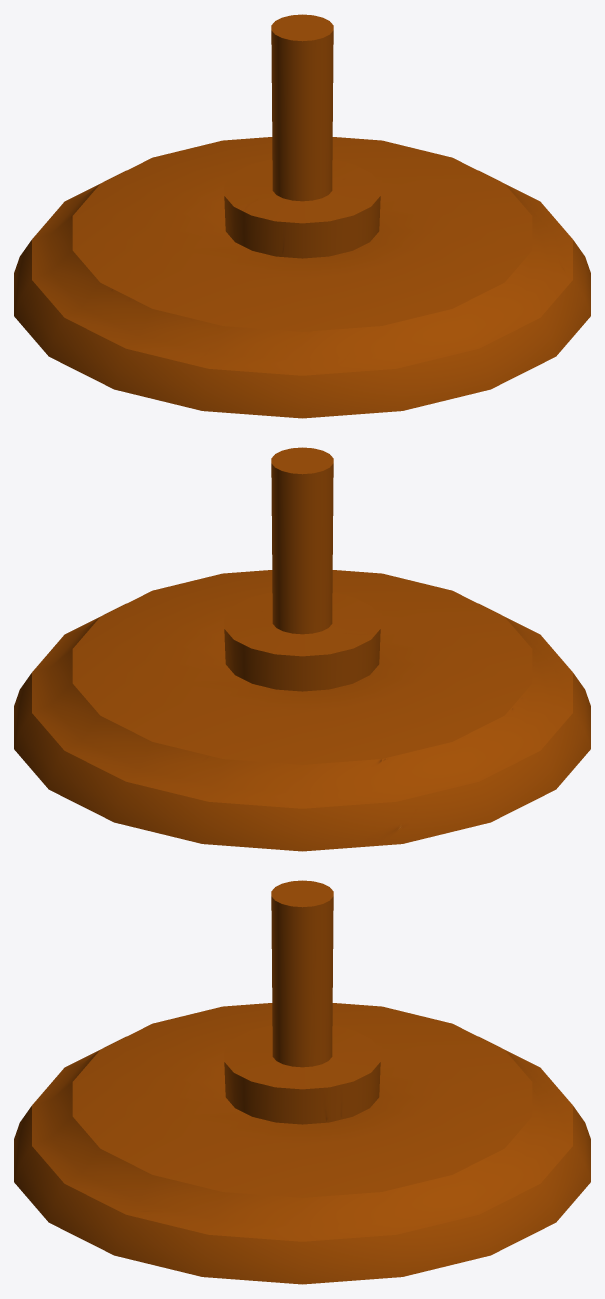
Rendered from otraLamp.fbx.
3 renders of one model, top to bottom at view 1: azimuth 30°, elevation 25°; view 2: azimuth 150°, elevation 25°; view 3: azimuth 270°, elevation 25°, orthographic.
Parts seen in each view (by area): view 1: Cylinder001; view 2: Cylinder001; view 3: Cylinder001.
Part boxes in pixels (x1=…): Cylinder001: x1=14, y1=14, x2=590, y2=418; Cylinder001: x1=14, y1=447, x2=590, y2=851; Cylinder001: x1=14, y1=880, x2=590, y2=1284.
Size of the model in its own units: 32.86 by 23.23 by 32.36.
